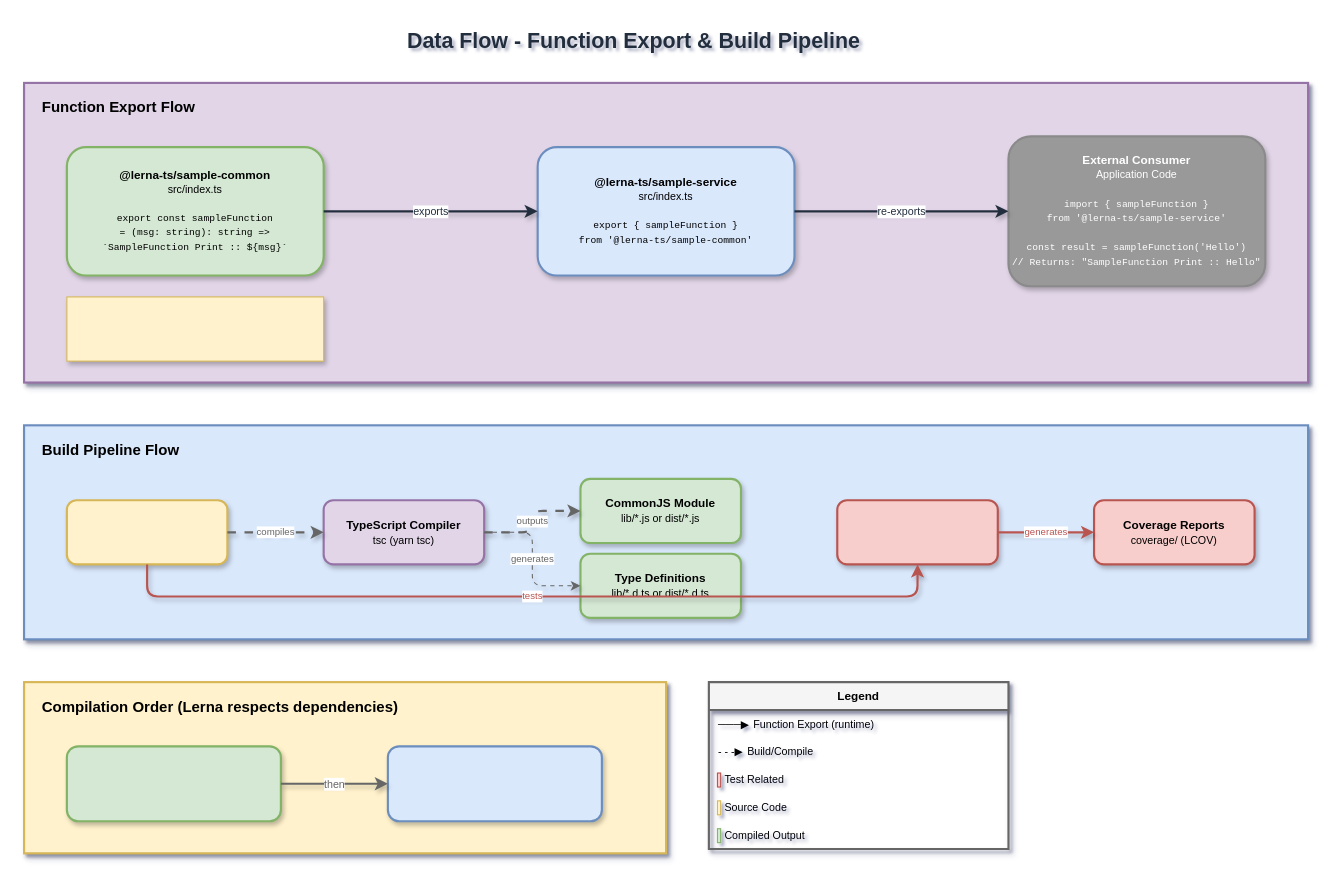
Image size: 1340x886. Some labels were removed from this diagram. The shapes that lost their labels are listed below. From the top down, each one's centre as x and y in pixels, then its label:
[196,330]: Data Transformation Input: "Hello" Output: "SampleFunction Print :: Hello"
[147,533]: TypeScript Source src/*.ts
[918,533]: Jest Runner yarn test
[174,784]: Step 1 @lerna-ts/sample-common (no dependencies, compiles first)
[495,784]: Step 2 @lerna-ts/sample-service (depends on sample-common)
